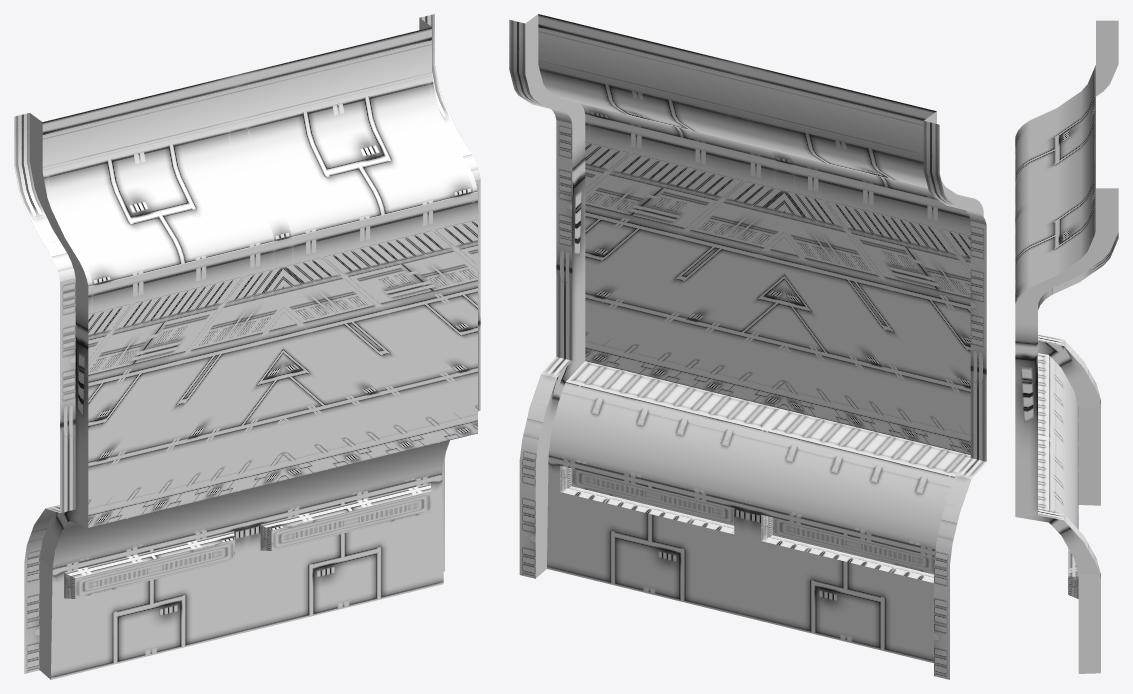
Rendered from Wall_Full_01.obj.
The picture shows the model from 3 angles, left to right: view 1: azimuth 30°, elevation 25°; view 2: azimuth 150°, elevation 25°; view 3: azimuth 270°, elevation 25°; orthographic projection. The views are drawn at different scales.
Parts seen in each view (by area): view 1: Wall_Full_01.001; view 2: Wall_Full_01.001; view 3: Wall_Full_01.001.
Boxes of the visible parts, <box> form: Wall_Full_01.001: <box>14,14,480,679</box>; Wall_Full_01.001: <box>509,14,986,679</box>; Wall_Full_01.001: <box>1015,20,1118,673</box>.
Size of the model in its own units: 3 by 3.75 by 0.7245.
